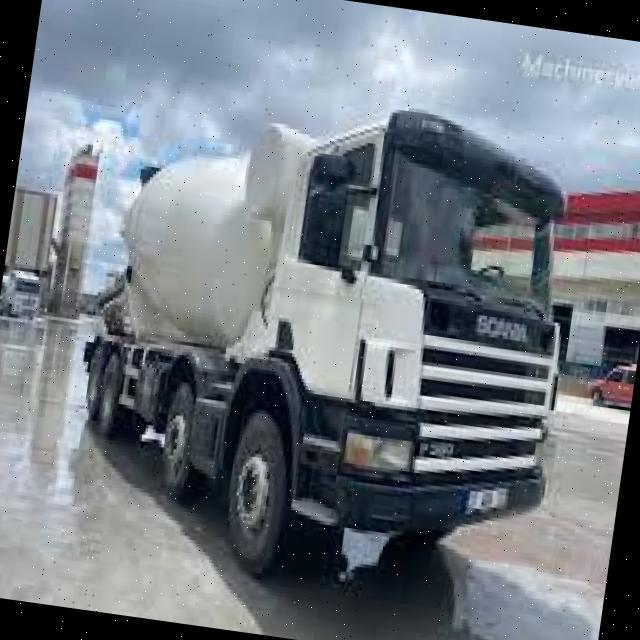Mixer Truck: (54, 68, 599, 622)
